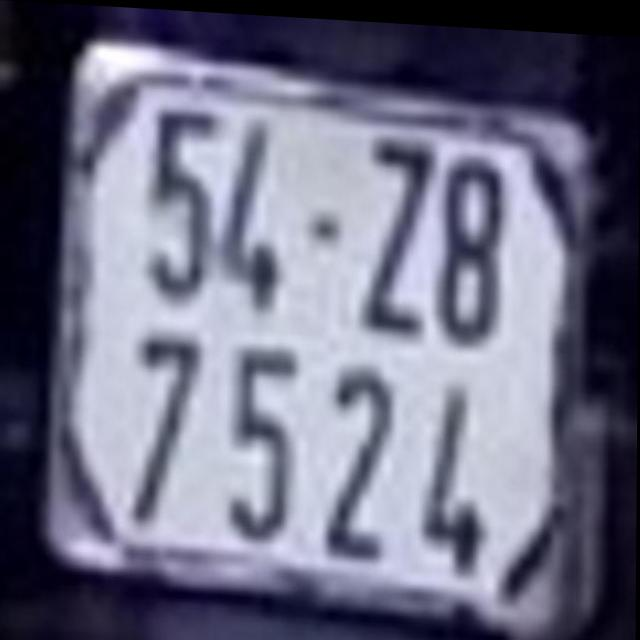2: (318, 339, 399, 568)
4: (410, 356, 500, 585), (223, 108, 298, 318)
5: (143, 97, 222, 319), (229, 327, 305, 547)
7: (121, 330, 207, 527)
8: (434, 139, 519, 349)
Z: (362, 130, 430, 342)
